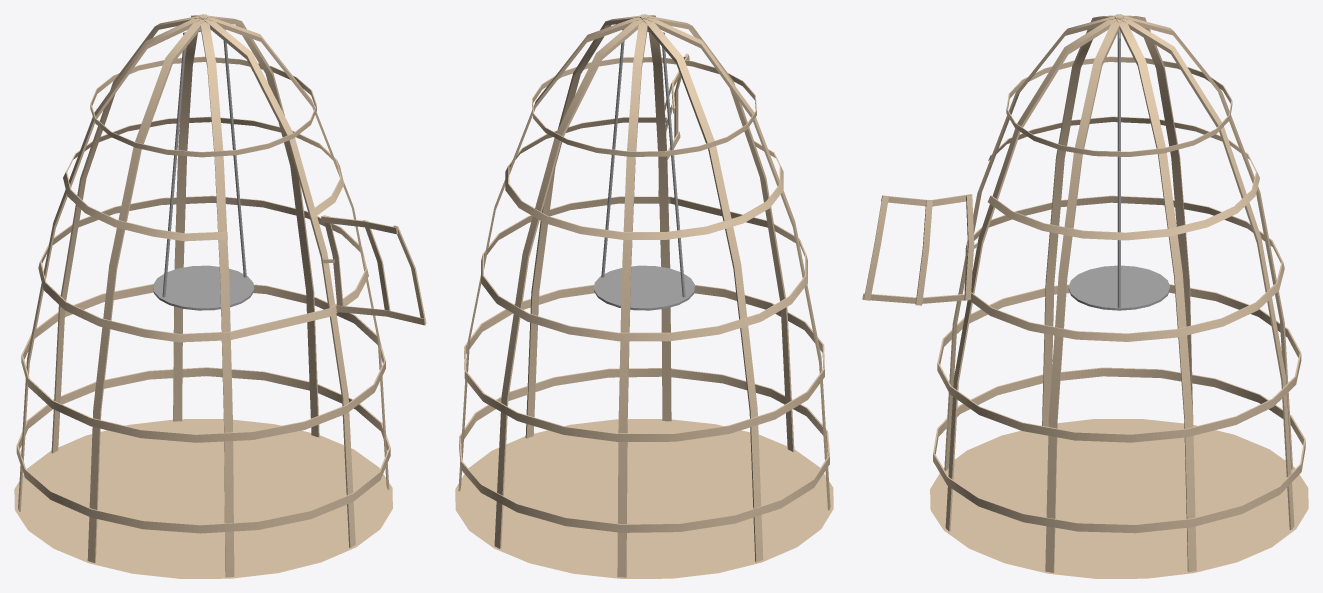
File: cageMetall.fbx
3 views of the same model, side by side, from view 1: azimuth 30°, elevation 25°; view 2: azimuth 150°, elevation 25°; view 3: azimuth 270°, elevation 25° (orthographic).
Parts seen in each view (by area): view 1: pPipe13; view 2: pPipe13; view 3: pPipe13.
Boxes of the visible parts, x1,y1,x2,y2 form: pPipe13: [14, 14, 426, 578]; pPipe13: [455, 14, 833, 578]; pPipe13: [862, 14, 1308, 578].
Bounding box in the file's own units: 4.05 × 5.71 × 4.77.
